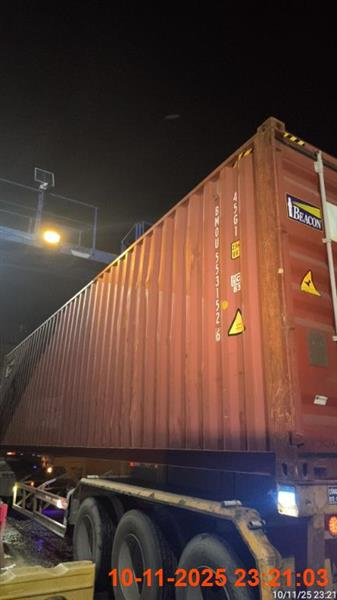broken: (0, 118, 335, 599)
